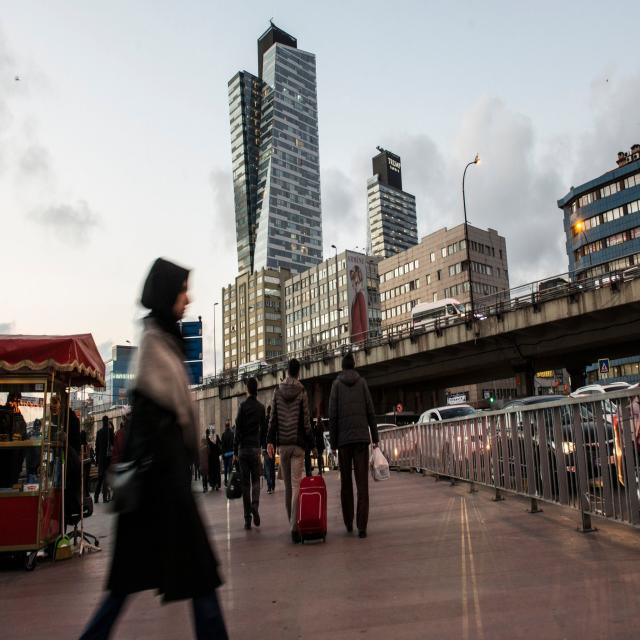body: (68, 253, 236, 639), (327, 347, 390, 540), (266, 357, 319, 544), (232, 376, 266, 531), (47, 390, 81, 538), (49, 430, 82, 536), (0, 388, 28, 488), (94, 414, 115, 504), (348, 264, 369, 347), (260, 404, 279, 494), (110, 414, 134, 466), (25, 417, 43, 484), (206, 425, 222, 491), (104, 420, 116, 500), (220, 420, 234, 487), (303, 408, 316, 477), (79, 429, 91, 493), (314, 414, 326, 476), (198, 438, 210, 493), (203, 428, 214, 483), (190, 462, 201, 481), (88, 444, 96, 466), (114, 420, 124, 436), (440, 306, 446, 314), (93, 448, 96, 463)
